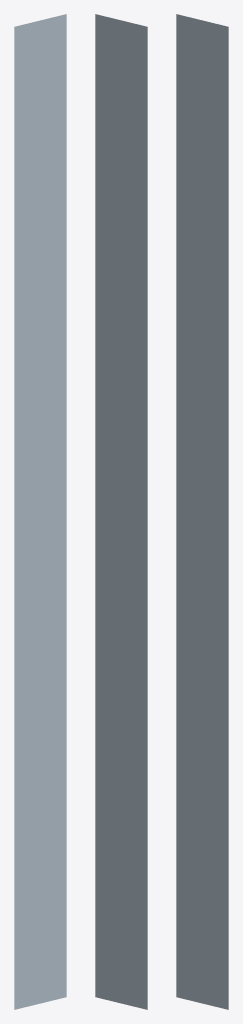
The model's file is 2067_IceBeams_BeamCore.fbx.
3 views of the same model, side by side, from view 1: azimuth 30°, elevation 25°; view 2: azimuth 150°, elevation 25°; view 3: azimuth 330°, elevation 25° (orthographic).
Visible parts, largest first — view 1: PART_IceBeamWhiteCore; view 2: PART_IceBeamWhiteCore; view 3: PART_IceBeamWhiteCore.
Boxes of the visible parts, x1,y1,x2,y2 form: PART_IceBeamWhiteCore: (14,14,66,1009); PART_IceBeamWhiteCore: (95,14,147,1009); PART_IceBeamWhiteCore: (176,14,228,1009).
Bounding box in the file's own units: 5.6 × 100 × 1.63e-05.
